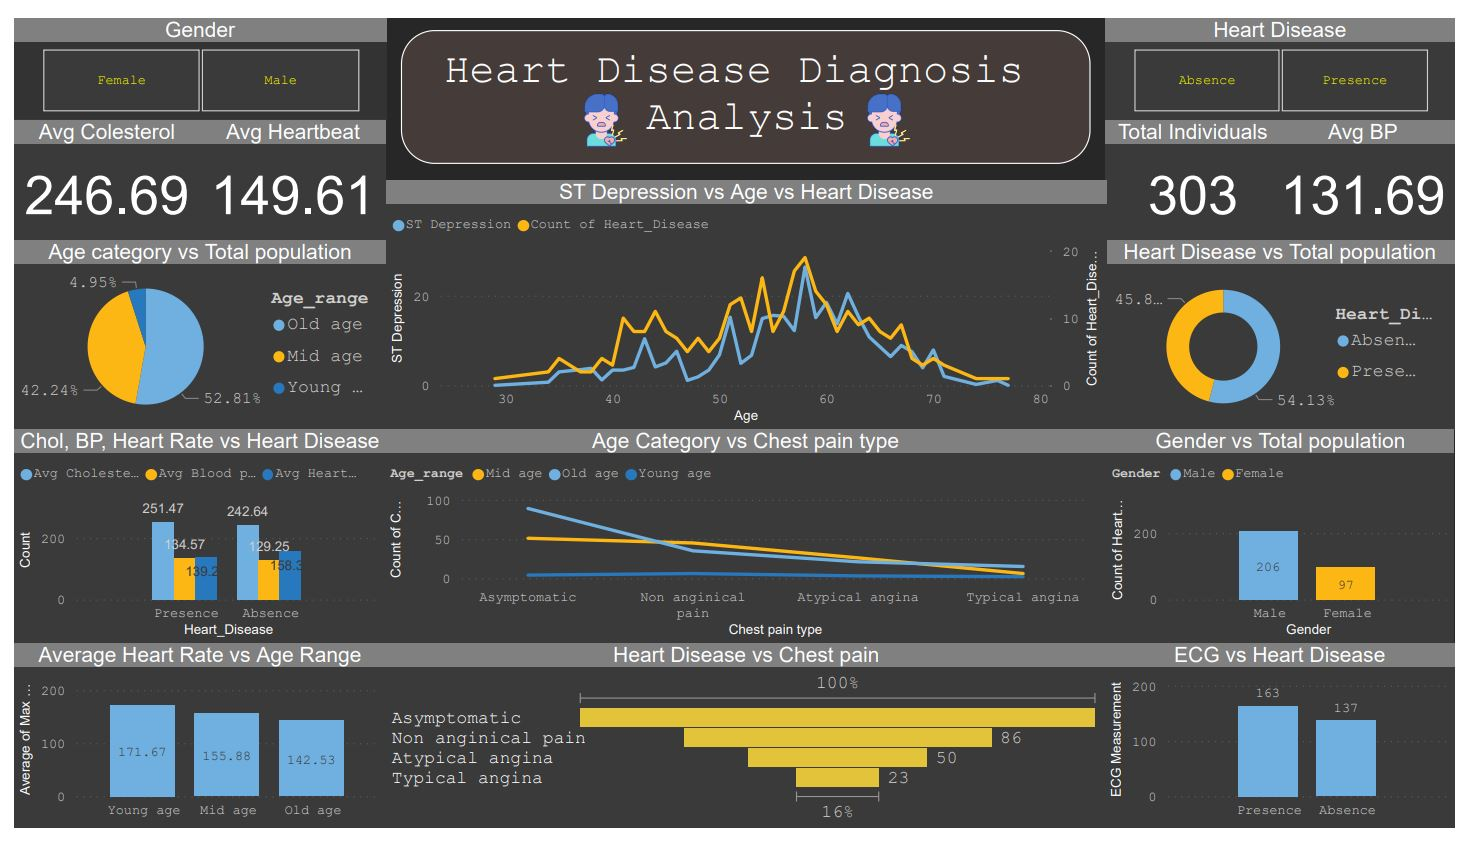

The page's visual inventory and layout, read from the dashboard file:
{"tool":"powerbi","page":{"name":"Heart Disease Diagnostic Analysis","canvas":[1280,720],"ordinal":0},"visuals":[{"type":"textbox","box":[343.9,10.7,612.9,119],"z":0},{"type":"image","box":[727.1,60.7,98.8,59.5],"z":1000},{"type":"slicer","title":"Gender","fields":{"Values":["My Heart disease.Sex1"]},"box":[0,0,330.8,90.4],"z":2000},{"type":"slicer","title":"Heart Disease","fields":{"Values":["My Heart disease.Heart_Disease"]},"box":[969.9,0,310.6,90.4],"z":3000},{"type":"card","title":"Total Individuals","fields":{"Values":["CountNonNull(My Heart disease.Heart_Disease)"]},"box":[969.9,90.4,155.9,107.1],"z":4000},{"type":"card","title":"Avg Heartbeat","fields":{"Values":["Avg(My Heart disease.thalach)"]},"box":[165.4,90.4,165.4,107.1],"z":5000},{"type":"card","title":"Avg Colesterol","fields":{"Values":["Avg(My Heart disease.chol)"]},"box":[0,90.4,165.4,107.1],"z":6000},{"type":"card","title":"Avg BP","fields":{"Values":["Avg(My Heart disease.trestbps)"]},"box":[1117.5,90.4,163,107.1],"z":7000},{"type":"donutChart","title":"Heart Disease vs Total population","fields":{"Category":["My Heart disease.Heart_Disease"],"Y":["CountNonNull(My Heart disease.Heart_Disease)"]},"box":[969.9,197.6,310.6,167.8],"z":8000},{"type":"columnChart","title":"Gender vs Total population","fields":{"Y":["CountNonNull(My Heart disease.Heart_Disease)"],"Category":["My Heart disease.Sex1"],"Series":["My Heart disease.Sex1"]},"box":[971.1,365.4,309.4,190.4],"z":9000},{"type":"funnel","title":"Heart Disease vs Chest pain","fields":{"Category":["My Heart disease.Chest pain type"],"Y":["CountNonNull(My Heart disease.Heart_Disease)"]},"box":[330.8,555.8,640.3,164.2],"z":10000},{"type":"pieChart","title":"Age category vs Total population","fields":{"Y":["CountNonNull(My Heart disease.Age_range)"],"Category":["My Heart disease.Age_range"]},"box":[0,197.6,330.8,167.8],"z":11000},{"type":"lineChart","title":"Age Category vs Chest pain type","fields":{"Category":["My Heart disease.Chest pain type"],"Series":["My Heart disease.Age_range"],"Y":["CountNonNull(My Heart disease.Chest pain type)"]},"box":[329.7,365.4,641.5,190.4],"z":12000},{"type":"clusteredColumnChart","title":"Chol, BP, Heart Rate vs Heart Disease","fields":{"Category":["My Heart disease.Heart_Disease"],"Y":["Avg(My Heart disease.chol)","Avg(My Heart disease.trestbps)","Avg(My Heart disease.thalach)"]},"box":[0,365.4,330.8,190.4],"z":13000},{"type":"clusteredColumnChart","title":"Average Heart Rate vs Age Range","fields":{"Category":["My Heart disease.Age_range"],"Y":["Avg(My Heart disease.Max Heart Rate)"]},"box":[0,555.8,330.8,164.2],"z":14000},{"type":"lineChart","title":"ST Depression vs Age vs Heart Disease","fields":{"Category":["My Heart disease.Age"],"Y":["Sum(My Heart disease.ST Depression)"],"Y2":["CountNonNull(My Heart disease.Heart_Disease)"]},"box":[330.8,144,640.3,221.4],"z":15000},{"type":"clusteredColumnChart","title":"ECG vs Heart Disease","fields":{"Category":["My Heart disease.Heart_Disease"],"Y":["Sum(My Heart disease.ECG Measurement)"]},"box":[969.9,555.8,310.6,164.2],"z":16000},{"type":"image","box":[495.1,60.7,60.7,59.5],"z":17000}]}

Visuals, with their boxes in screenshot pixels (x1, y1, x2, y2), scaled from the page's 1280x720 canvas onto the 1470x846 screenshot:
textbox: rect(395, 13, 1099, 152)
image: rect(835, 71, 948, 141)
"Gender" slicer: rect(0, 0, 380, 106)
"Heart Disease" slicer: rect(1114, 0, 1469, 106)
"Total Individuals" card: rect(1114, 106, 1293, 232)
"Avg Heartbeat" card: rect(190, 106, 380, 232)
"Avg Colesterol" card: rect(0, 106, 190, 232)
"Avg BP" card: rect(1283, 106, 1469, 232)
"Heart Disease vs Total population" donutChart: rect(1114, 232, 1469, 429)
"Gender vs Total population" columnChart: rect(1115, 429, 1469, 653)
"Heart Disease vs Chest pain" funnel: rect(380, 653, 1115, 845)
"Age category vs Total population" pieChart: rect(0, 232, 380, 429)
"Age Category vs Chest pain type" lineChart: rect(379, 429, 1115, 653)
"Chol, BP, Heart Rate vs Heart Disease" clusteredColumnChart: rect(0, 429, 380, 653)
"Average Heart Rate vs Age Range" clusteredColumnChart: rect(0, 653, 380, 845)
"ST Depression vs Age vs Heart Disease" lineChart: rect(380, 169, 1115, 429)
"ECG vs Heart Disease" clusteredColumnChart: rect(1114, 653, 1469, 845)
image: rect(569, 71, 638, 141)
